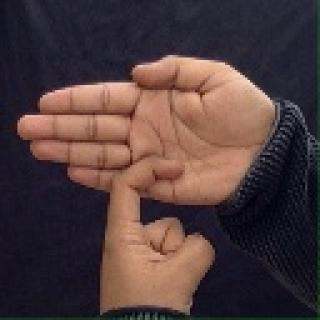R: (17, 39, 282, 294)
